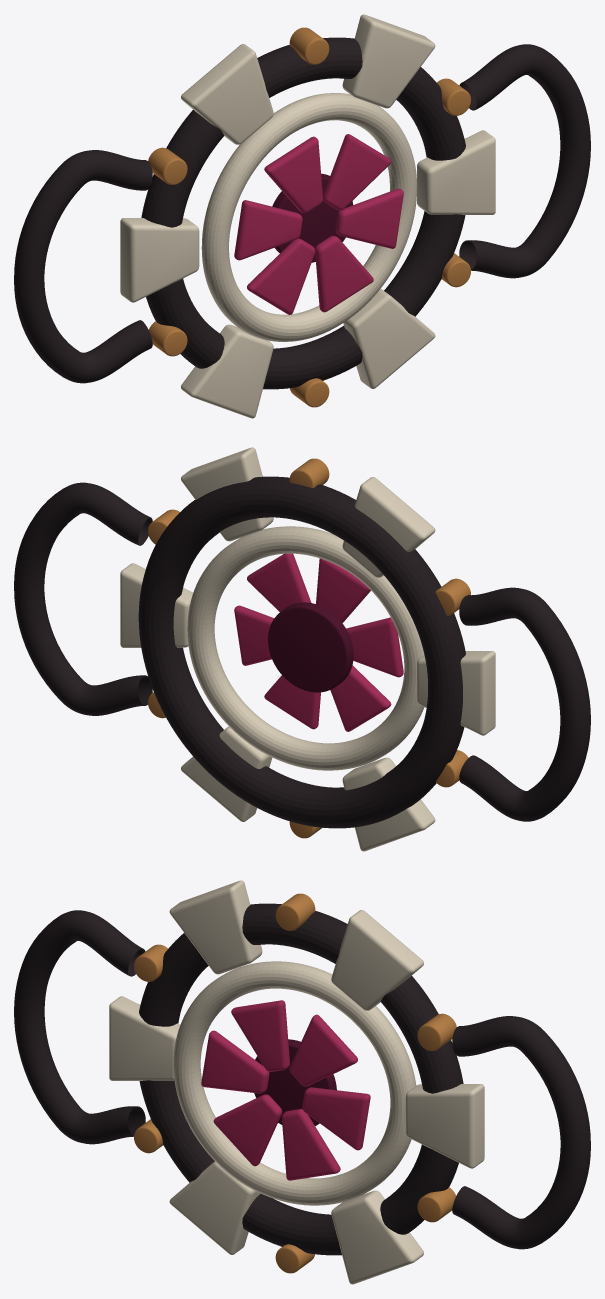
Rendered from sixfold-reliquary-rotor.glb.
The picture shows the model from 3 angles, top to bottom: view 1: azimuth 30°, elevation 25°; view 2: azimuth 150°, elevation 25°; view 3: azimuth 330°, elevation 25°; orthographic projection.
Visible parts, largest first — view 1: reliquary_outer_counterweight_ring, reliquary_inner_bone_race, reliquary_left_weighted_handle, reliquary_right_weighted_handle, reliquary_outer_valve_arm_5, reliquary_outer_valve_arm_4, reliquary_outer_valve_arm_1, reliquary_outer_valve_arm_6, reliquary_outer_valve_arm_3, reliquary_outer_valve_arm_2, reliquary_inner_membrane_valve_3, reliquary_inner_membrane_valve_6 (+11 smaller); view 2: reliquary_outer_counterweight_ring, reliquary_inner_bone_race, reliquary_right_weighted_handle, reliquary_left_weighted_handle, reliquary_deep_inner_cavity, reliquary_outer_valve_arm_5, reliquary_outer_valve_arm_4, reliquary_outer_valve_arm_6, reliquary_outer_valve_arm_3, reliquary_outer_valve_arm_1, reliquary_outer_valve_arm_2, reliquary_inner_membrane_valve_4 (+8 smaller); view 3: reliquary_outer_counterweight_ring, reliquary_inner_bone_race, reliquary_right_weighted_handle, reliquary_left_weighted_handle, reliquary_outer_valve_arm_6, reliquary_outer_valve_arm_1, reliquary_outer_valve_arm_5, reliquary_outer_valve_arm_2, reliquary_outer_valve_arm_4, reliquary_outer_valve_arm_3, reliquary_inner_membrane_valve_5, reliquary_inner_membrane_valve_1 (+11 smaller).
Boxes of the visible parts, box(x1,y1,x2,y2) form: reliquary_outer_counterweight_ring: box(141, 37, 465, 389); reliquary_inner_bone_race: box(201, 93, 416, 341); reliquary_left_weighted_handle: box(14, 150, 152, 383); reliquary_right_weighted_handle: box(459, 44, 590, 278); reliquary_outer_valve_arm_5: box(181, 44, 273, 144); reliquary_outer_valve_arm_4: box(120, 218, 199, 302); reliquary_outer_valve_arm_1: box(417, 130, 495, 214); reliquary_outer_valve_arm_6: box(342, 14, 435, 108); reliquary_outer_valve_arm_3: box(181, 324, 273, 418); reliquary_outer_valve_arm_2: box(343, 288, 435, 388); reliquary_inner_membrane_valve_3: box(247, 238, 315, 314); reliquary_inner_membrane_valve_6: box(323, 134, 391, 210); reliquary_outer_counterweight_ring: box(138, 476, 465, 828); reliquary_inner_bone_race: box(187, 526, 424, 770); reliquary_right_weighted_handle: box(14, 482, 152, 715); reliquary_left_weighted_handle: box(459, 587, 590, 821); reliquary_deep_inner_cavity: box(268, 602, 353, 692); reliquary_outer_valve_arm_5: box(342, 477, 435, 577); reliquary_outer_valve_arm_4: box(417, 651, 495, 735); reliquary_outer_valve_arm_6: box(181, 447, 273, 541); reliquary_outer_valve_arm_3: box(342, 757, 435, 851); reliquary_outer_valve_arm_1: box(120, 563, 192, 647); reliquary_outer_valve_arm_2: box(181, 726, 272, 821); reliquary_inner_membrane_valve_4: box(346, 617, 403, 677); reliquary_outer_counterweight_ring: box(139, 903, 463, 1255); reliquary_inner_bone_race: box(173, 961, 416, 1205); reliquary_right_weighted_handle: box(452, 1016, 590, 1249); reliquary_left_weighted_handle: box(14, 910, 145, 1144); reliquary_outer_valve_arm_6: box(331, 910, 423, 1010); reliquary_outer_valve_arm_1: box(405, 1084, 484, 1168); reliquary_outer_valve_arm_5: box(169, 880, 262, 974); reliquary_outer_valve_arm_2: box(331, 1190, 423, 1284); reliquary_outer_valve_arm_4: box(109, 996, 180, 1080); reliquary_outer_valve_arm_3: box(169, 1161, 260, 1254); reliquary_inner_membrane_valve_5: box(231, 1000, 289, 1071); reliquary_inner_membrane_valve_1: box(302, 1087, 370, 1150).
Bounding box in the file's own units: 242 × 148 × 21.7.
